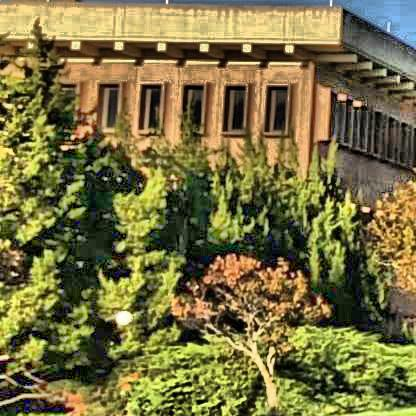golfball: (112, 306, 129, 321)
